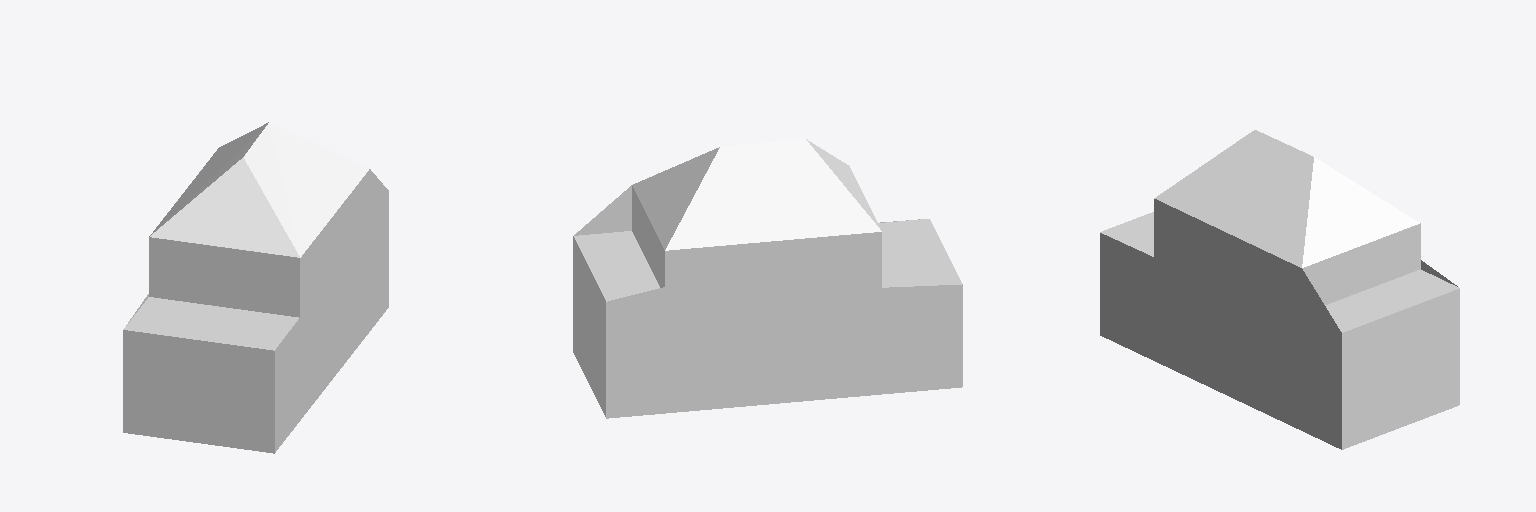
Rendered from house_Shape 234.obj.
The picture shows the model from 3 angles: view 1: azimuth 30°, elevation 25°; view 2: azimuth 150°, elevation 25°; view 3: azimuth 270°, elevation 25°; orthographic projection.
Visible parts, largest first — view 1: CityEngineMaterial_131, CityEngineMaterial_12, CityEngineMaterial_130, CityEngineMaterial_132; view 2: CityEngineMaterial_131, CityEngineMaterial_12, CityEngineMaterial_132, CityEngineMaterial_130; view 3: CityEngineMaterial_131, CityEngineMaterial_12, CityEngineMaterial_132, CityEngineMaterial_130.
Boxes of the visible parts, box(x1,y1,x2,y2) form: CityEngineMaterial_131: box(123, 201, 388, 453); CityEngineMaterial_12: box(149, 122, 368, 257); CityEngineMaterial_130: box(123, 297, 298, 350); CityEngineMaterial_132: box(300, 169, 388, 313); CityEngineMaterial_131: box(573, 186, 962, 418); CityEngineMaterial_12: box(632, 139, 881, 250); CityEngineMaterial_132: box(574, 185, 881, 311); CityEngineMaterial_130: box(574, 219, 961, 301); CityEngineMaterial_131: box(1100, 223, 1459, 449); CityEngineMaterial_12: box(1154, 130, 1419, 267); CityEngineMaterial_132: box(1154, 199, 1457, 342); CityEngineMaterial_130: box(1100, 212, 1459, 332).
Bounding box in the file's own units: 14.45 × 9.63 × 13.79.